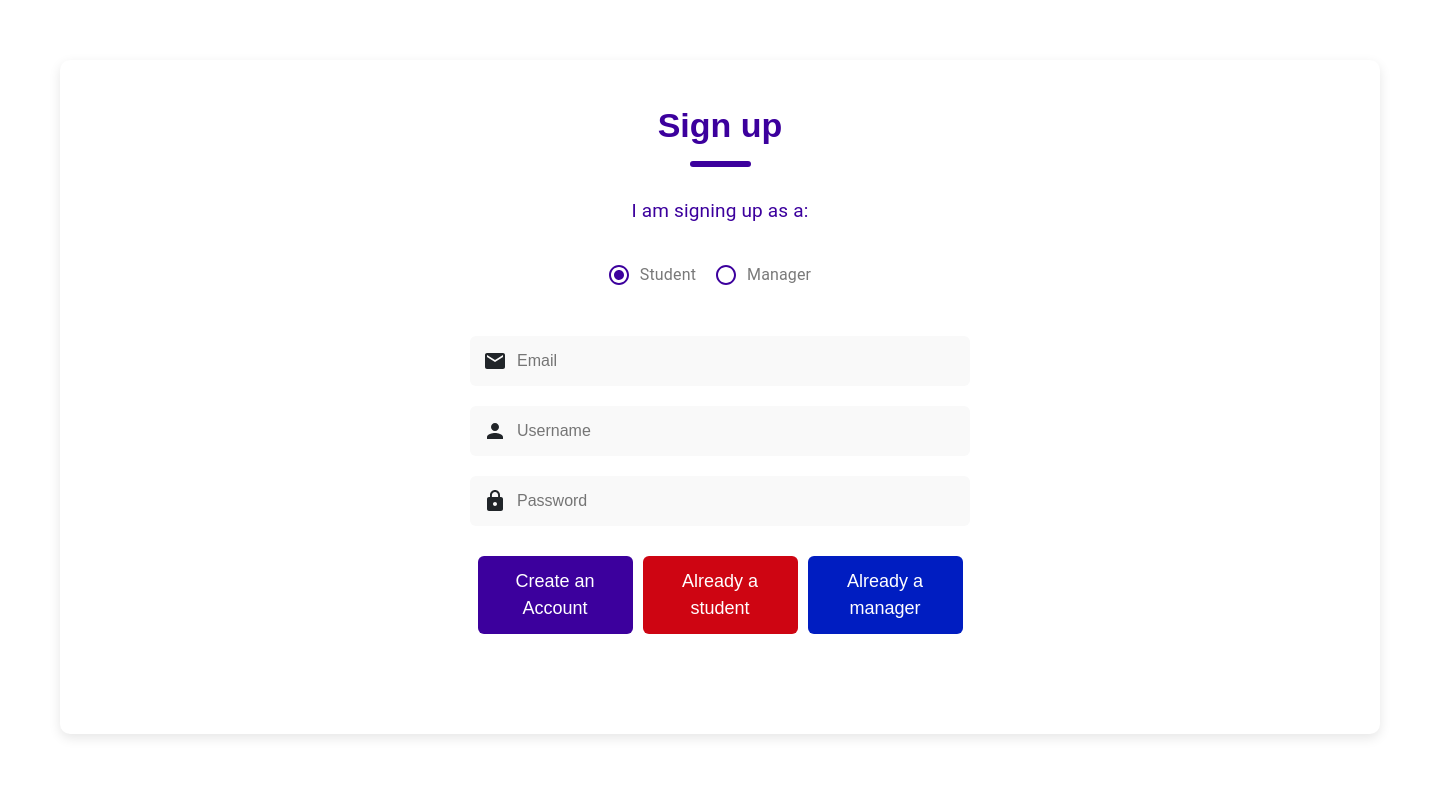
Test case: Signup Component › shows an error when email is invalid
Type "invalidEmail" into the field with placeholder "Email" at x=732, y=361, box [507,337,957,385]
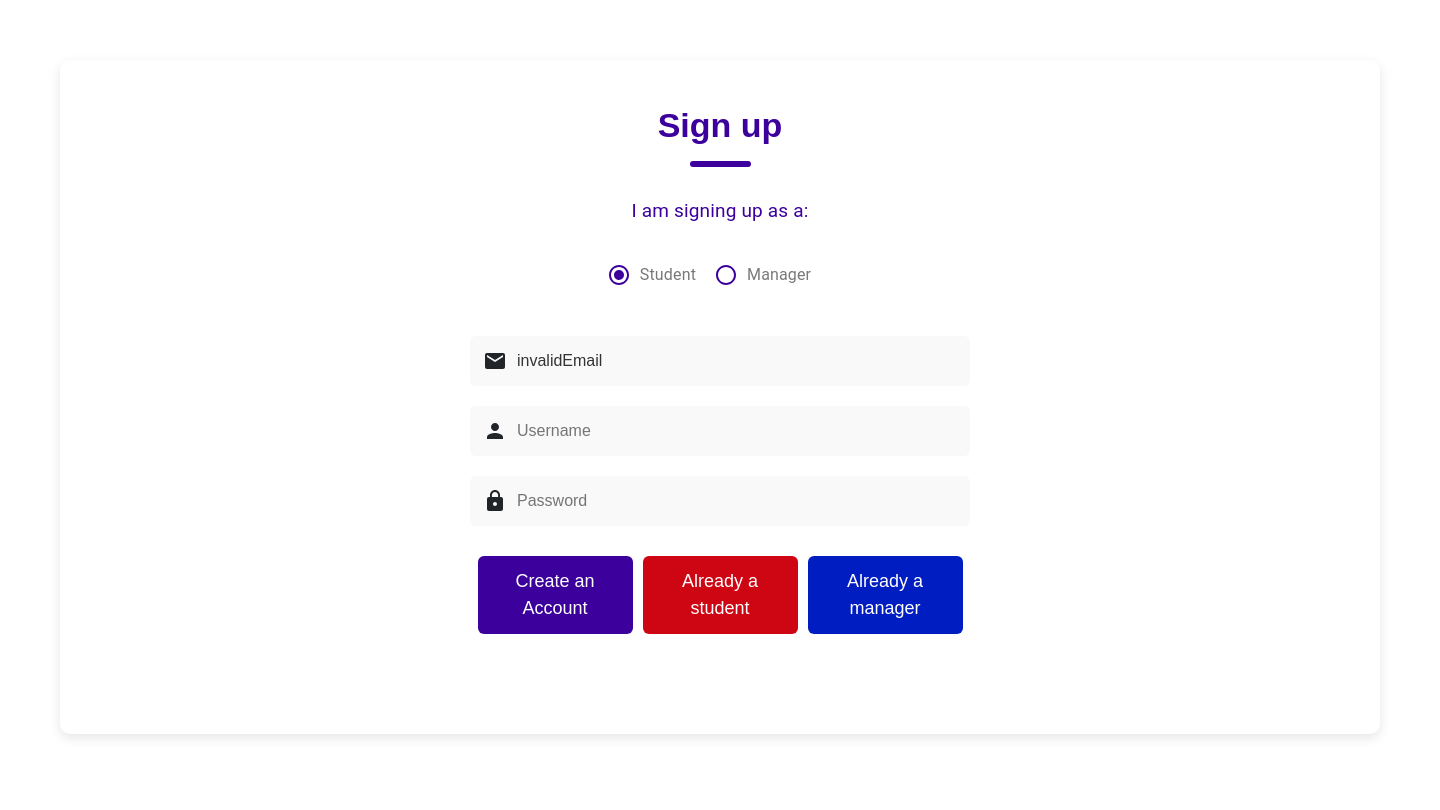
Click the text "Create an Account" at x=555, y=595, box [478,556,632,634]
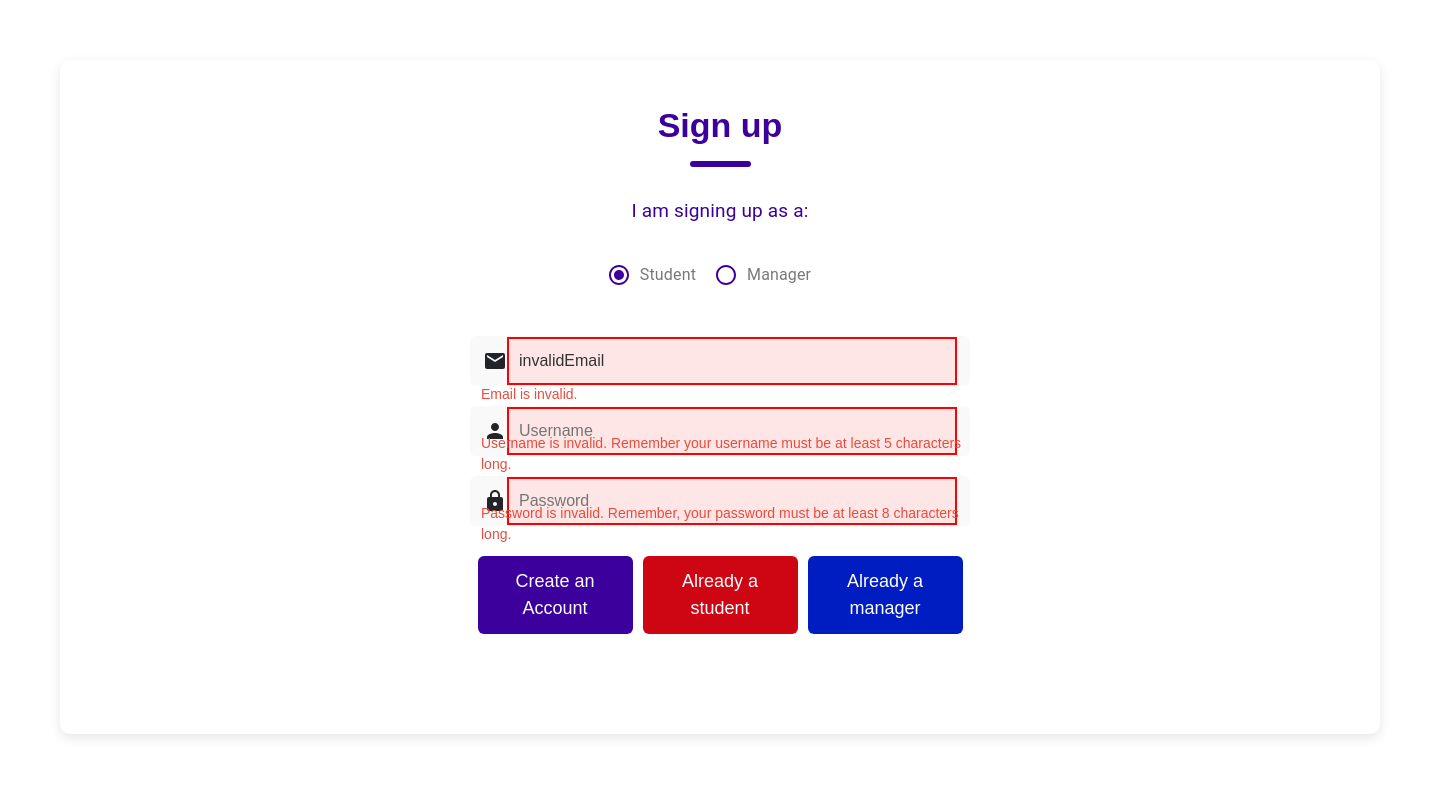
expect the text "Email is invalid." is shown: met, box [481,384,578,405]
